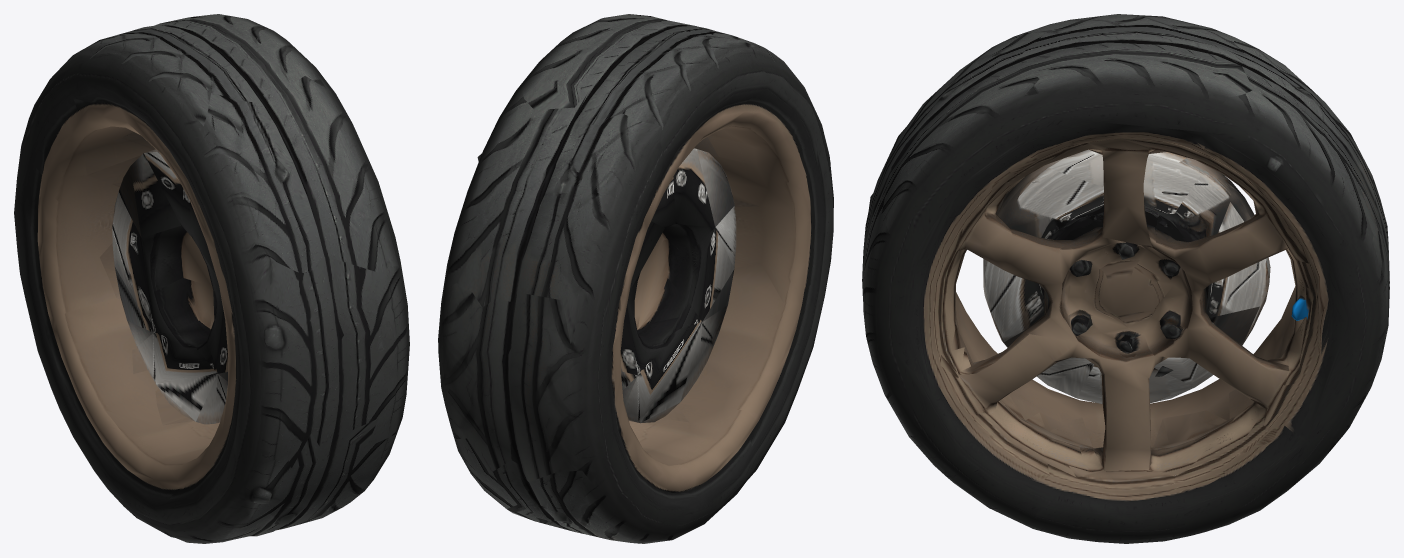
Rendered from endo_wheel_v1.obj.
The picture shows the model from 3 angles, left to right: view 1: azimuth 30°, elevation 25°; view 2: azimuth 150°, elevation 25°; view 3: azimuth 270°, elevation 25°; orthographic projection.
Parts seen in each view (by area): view 1: wheel; view 2: wheel; view 3: wheel.
Part boxes in pixels (left/top/right/bottom): wheel: left=14, top=14, right=409, bottom=543; wheel: left=438, top=14, right=833, bottom=543; wheel: left=862, top=14, right=1389, bottom=543.
Bounding box in the file's own units: 0.2572 × 0.6976 × 0.6988.
